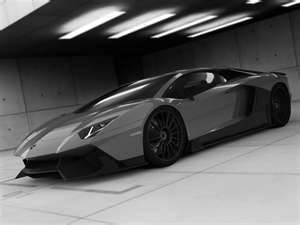car: (11, 55, 298, 196)
